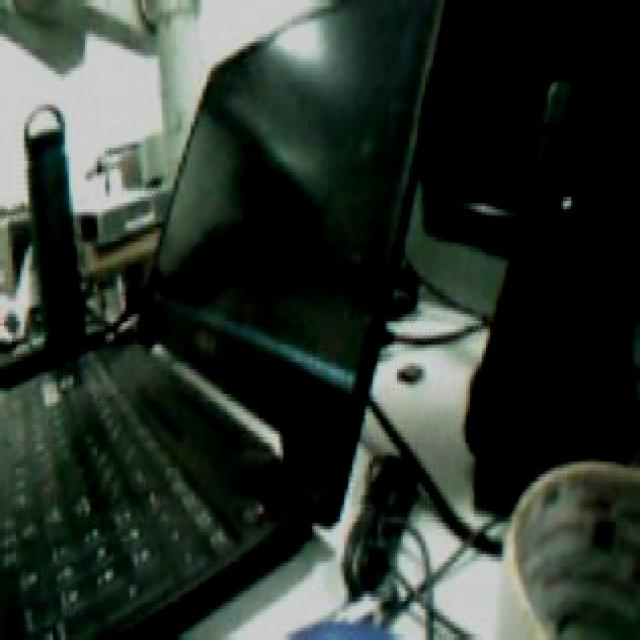BallPurple: (285, 619, 393, 640)
